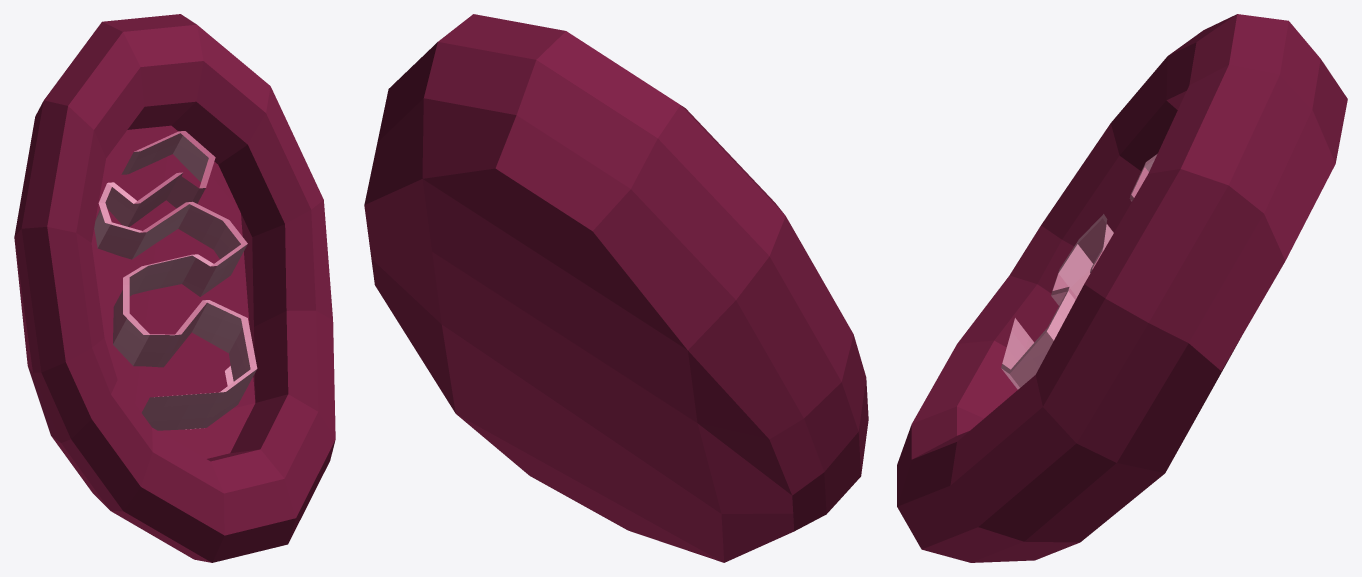
Rendered from TXGJ26_Mitochondria.obj.
The picture shows the model from 3 angles, left to right: view 1: azimuth 30°, elevation 25°; view 2: azimuth 150°, elevation 25°; view 3: azimuth 270°, elevation 25°; orthographic projection. The views are drawn at different scales.
Visible parts, largest first — view 1: torus, plane; view 2: torus; view 3: torus, plane.
Boxes of the visible parts, x1,y1,x2,y2 form: torus: (14, 14, 335, 562); plane: (94, 131, 257, 430); torus: (364, 14, 868, 562); torus: (897, 14, 1347, 562); plane: (1001, 154, 1157, 389).
Bounding box in the file's own units: 0.7866 × 1.11 × 0.856.
Materials: 2 (2 with a texture image).
